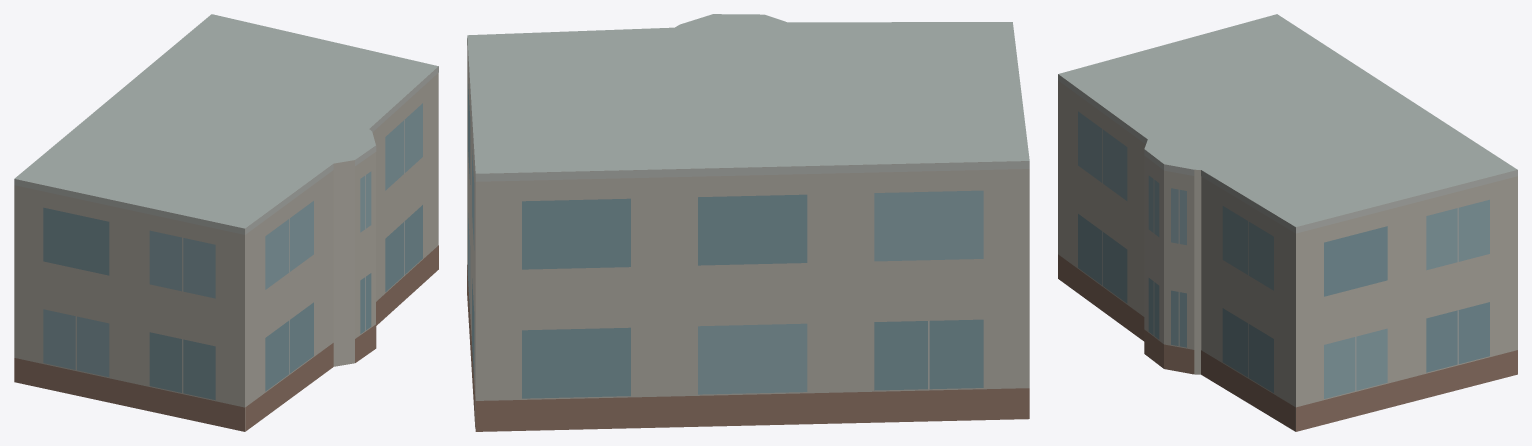
The model's file is survey-upis-32625087.glb.
3 renders of one model, left to right at view 1: azimuth 30°, elevation 25°; view 2: azimuth 150°, elevation 25°; view 3: azimuth 270°, elevation 25°, orthographic. The views are drawn at different scales.
Parts seen in each view (by area): view 1: survey-upis-32625087.tmp; view 2: survey-upis-32625087.tmp; view 3: survey-upis-32625087.tmp.
Part boxes in pixels (x1,y1,x2,y2): survey-upis-32625087.tmp: (14,14,438,431); survey-upis-32625087.tmp: (467,14,1029,431); survey-upis-32625087.tmp: (1058,14,1517,431).
Bounding box in the file's own units: 17.43 × 7.8 × 15.88.
